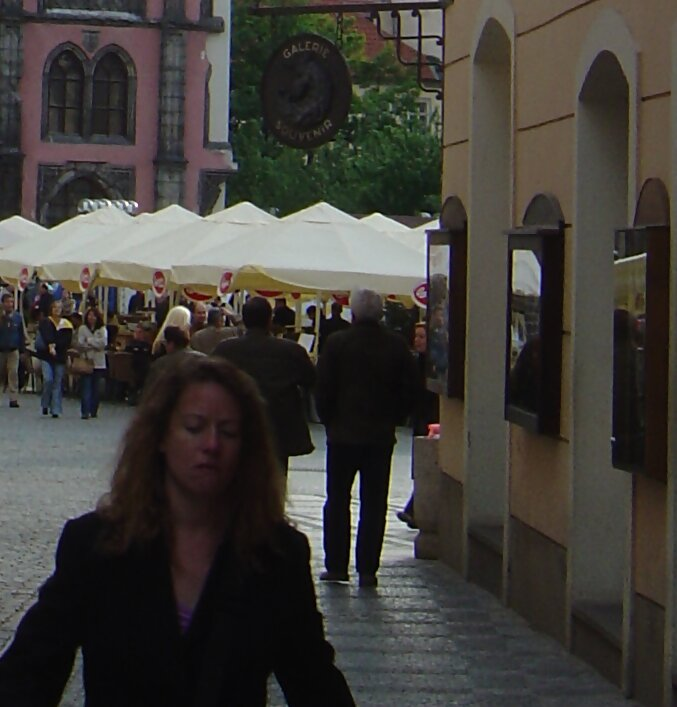person: (1, 353, 375, 707), (314, 284, 415, 595), (207, 291, 311, 486), (35, 296, 71, 422), (406, 322, 441, 449), (75, 303, 111, 420), (1, 291, 28, 409)
